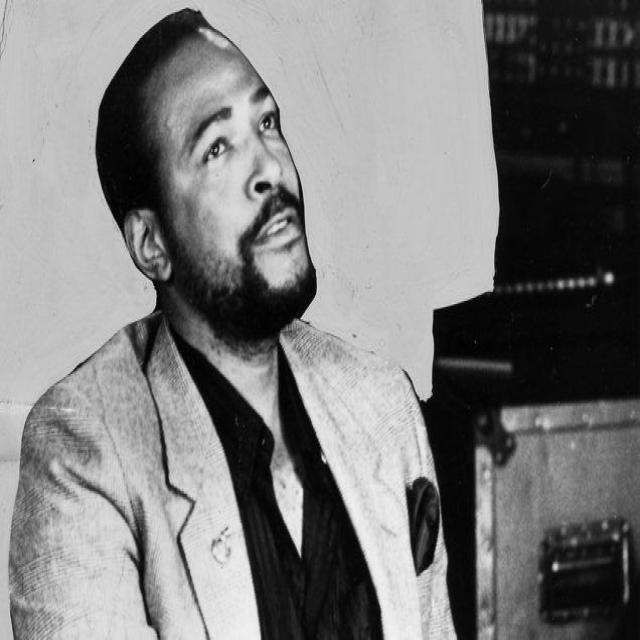human: (12, 1, 466, 640)
